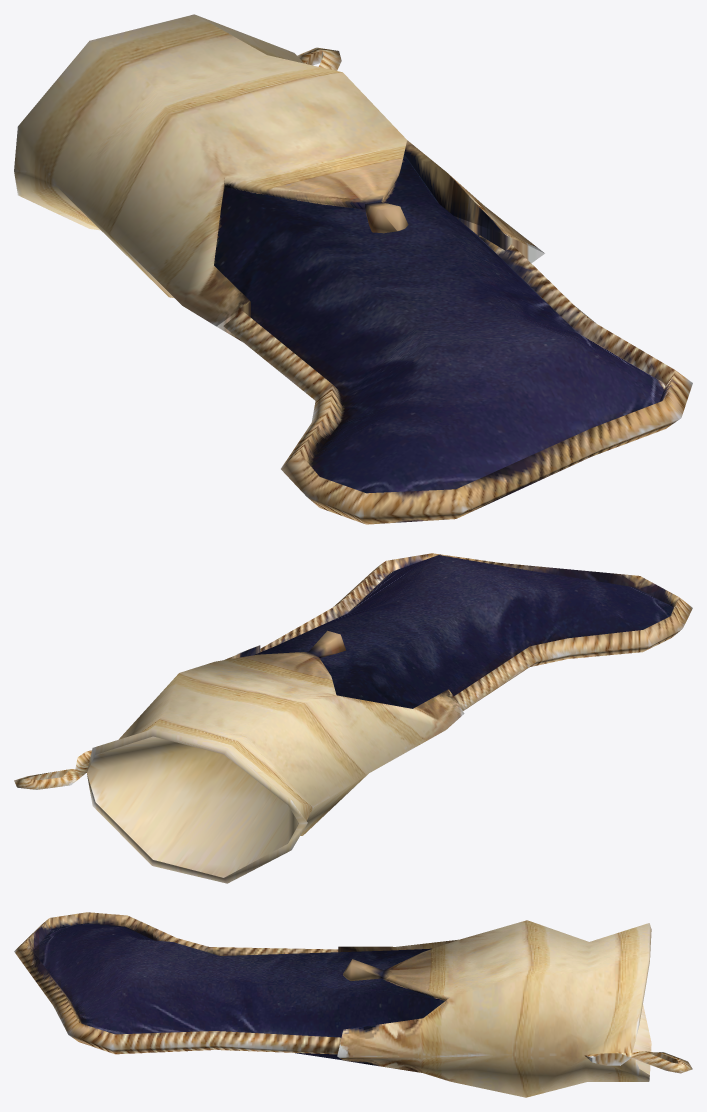
The model's file is stockings.dae.
The picture shows the model from 3 angles, top to bottom: view 1: azimuth 30°, elevation 25°; view 2: azimuth 150°, elevation 25°; view 3: azimuth 270°, elevation 25°; orthographic projection. The views are drawn at different scales.
Parts seen in each view (by area): view 1: Box01_PIVOT; view 2: Box01_PIVOT; view 3: Box01_PIVOT.
Boxes of the visible parts, x1,y1,x2,y2 form: Box01_PIVOT: (14,14,692,524); Box01_PIVOT: (14,553,692,883); Box01_PIVOT: (14,912,692,1097).
Size of the model in its own units: 0.5295 by 0.9763 by 0.1999.
